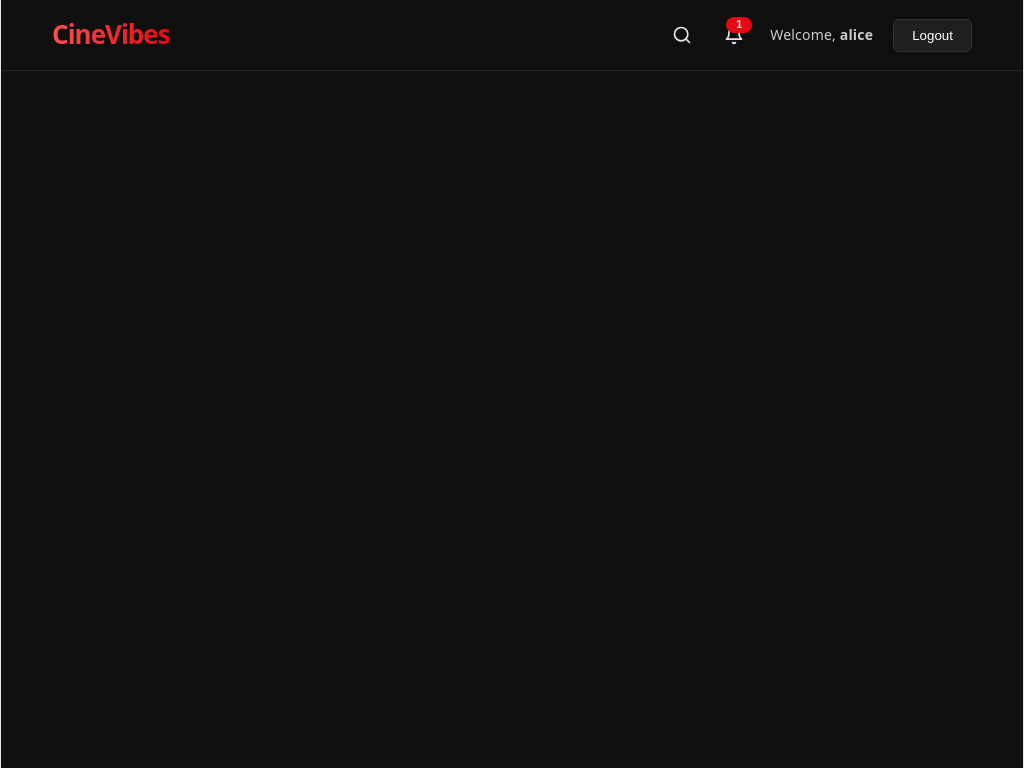
Header › shows an unread count badge and clears it when the dropdown is opened
This screenshot has width=1024, height=768.
Expected: the text "1" is shown, [726,17,752,33]
What coordinates should you click on to do the following:
click the button named "Notifications (1 unread)"
I would click on:
 (734, 35)
Its box is [718,19,750,51].
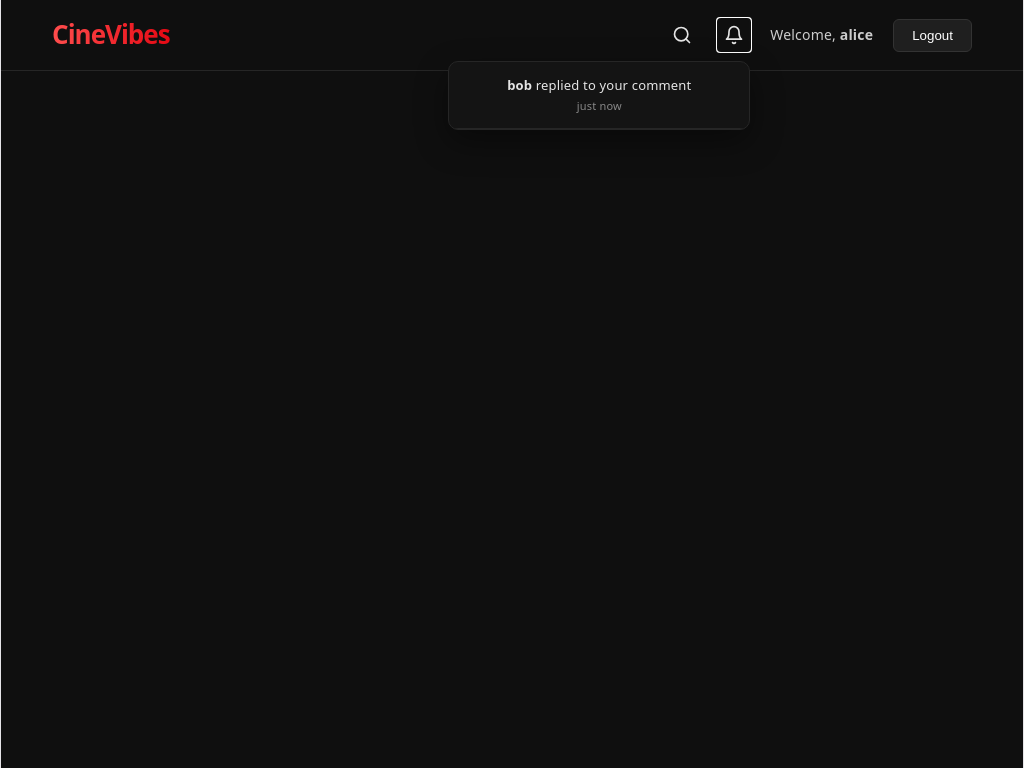
Expected: the text "bob" is shown, [507,76,532,94]
Expected: the text "1" is gone
